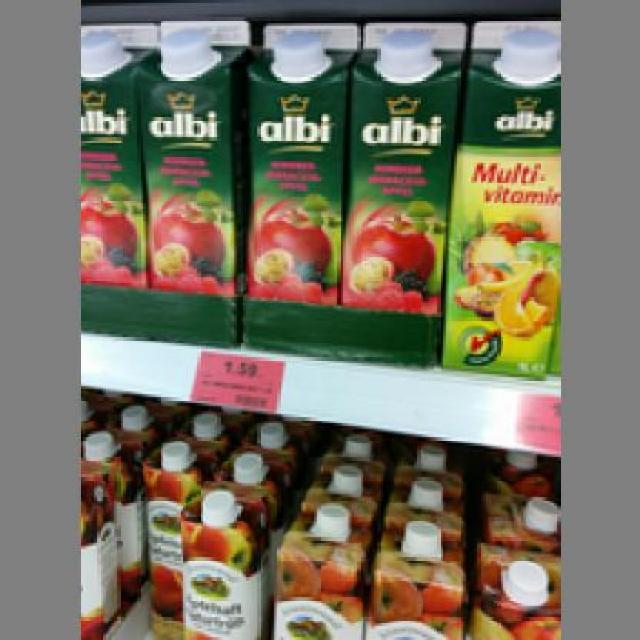Juice: (437, 12, 554, 374), (343, 18, 466, 312), (242, 20, 358, 300), (134, 17, 243, 290), (77, 20, 143, 286)
